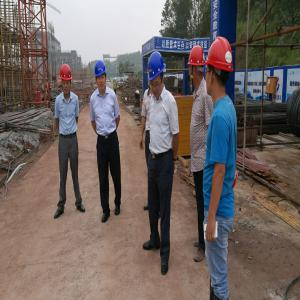blue: (147, 51, 167, 99), (94, 61, 110, 93)
red: (205, 38, 234, 98), (189, 45, 206, 85), (60, 62, 73, 97)
white: (115, 79, 117, 83)
